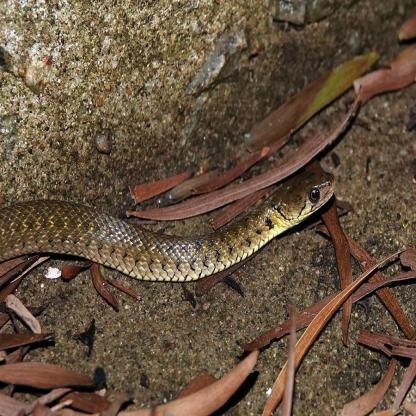Snake: (0, 168, 340, 286)
